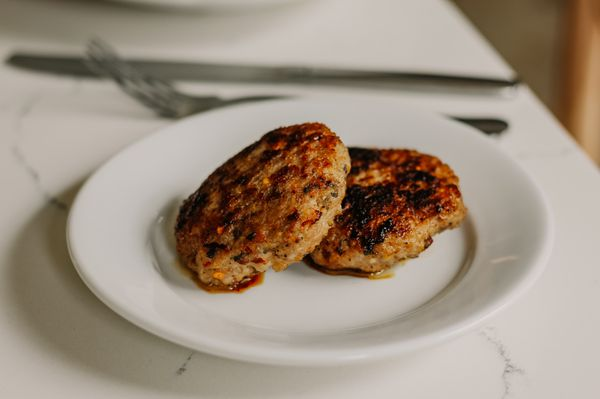burger: (2, 36, 574, 121)
